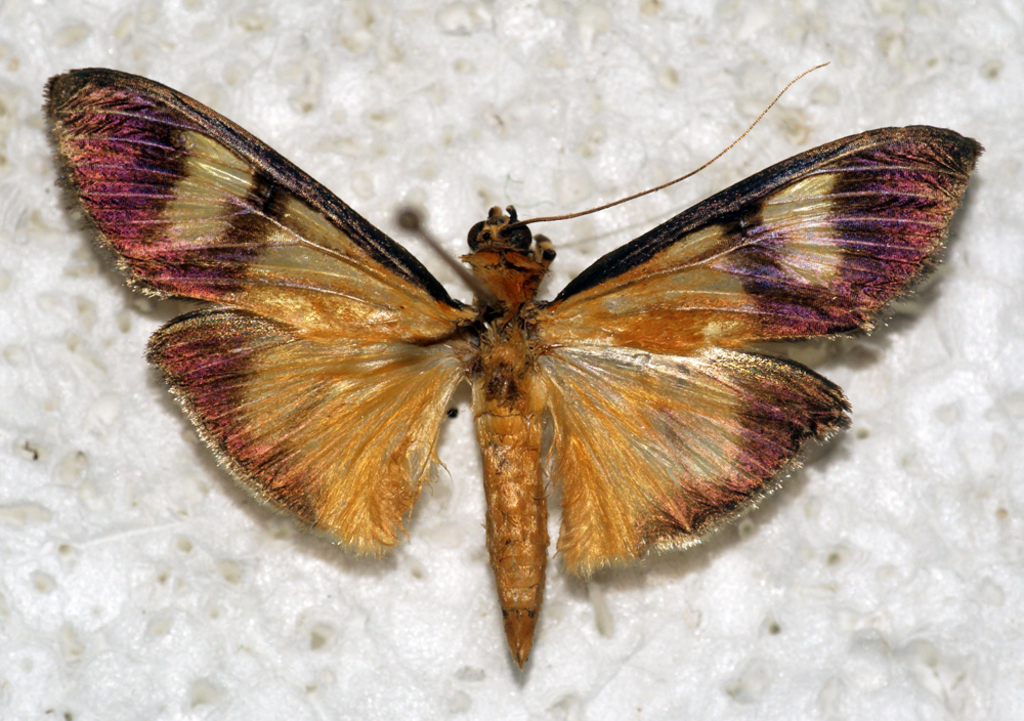Butterfly: (23, 43, 995, 697)
